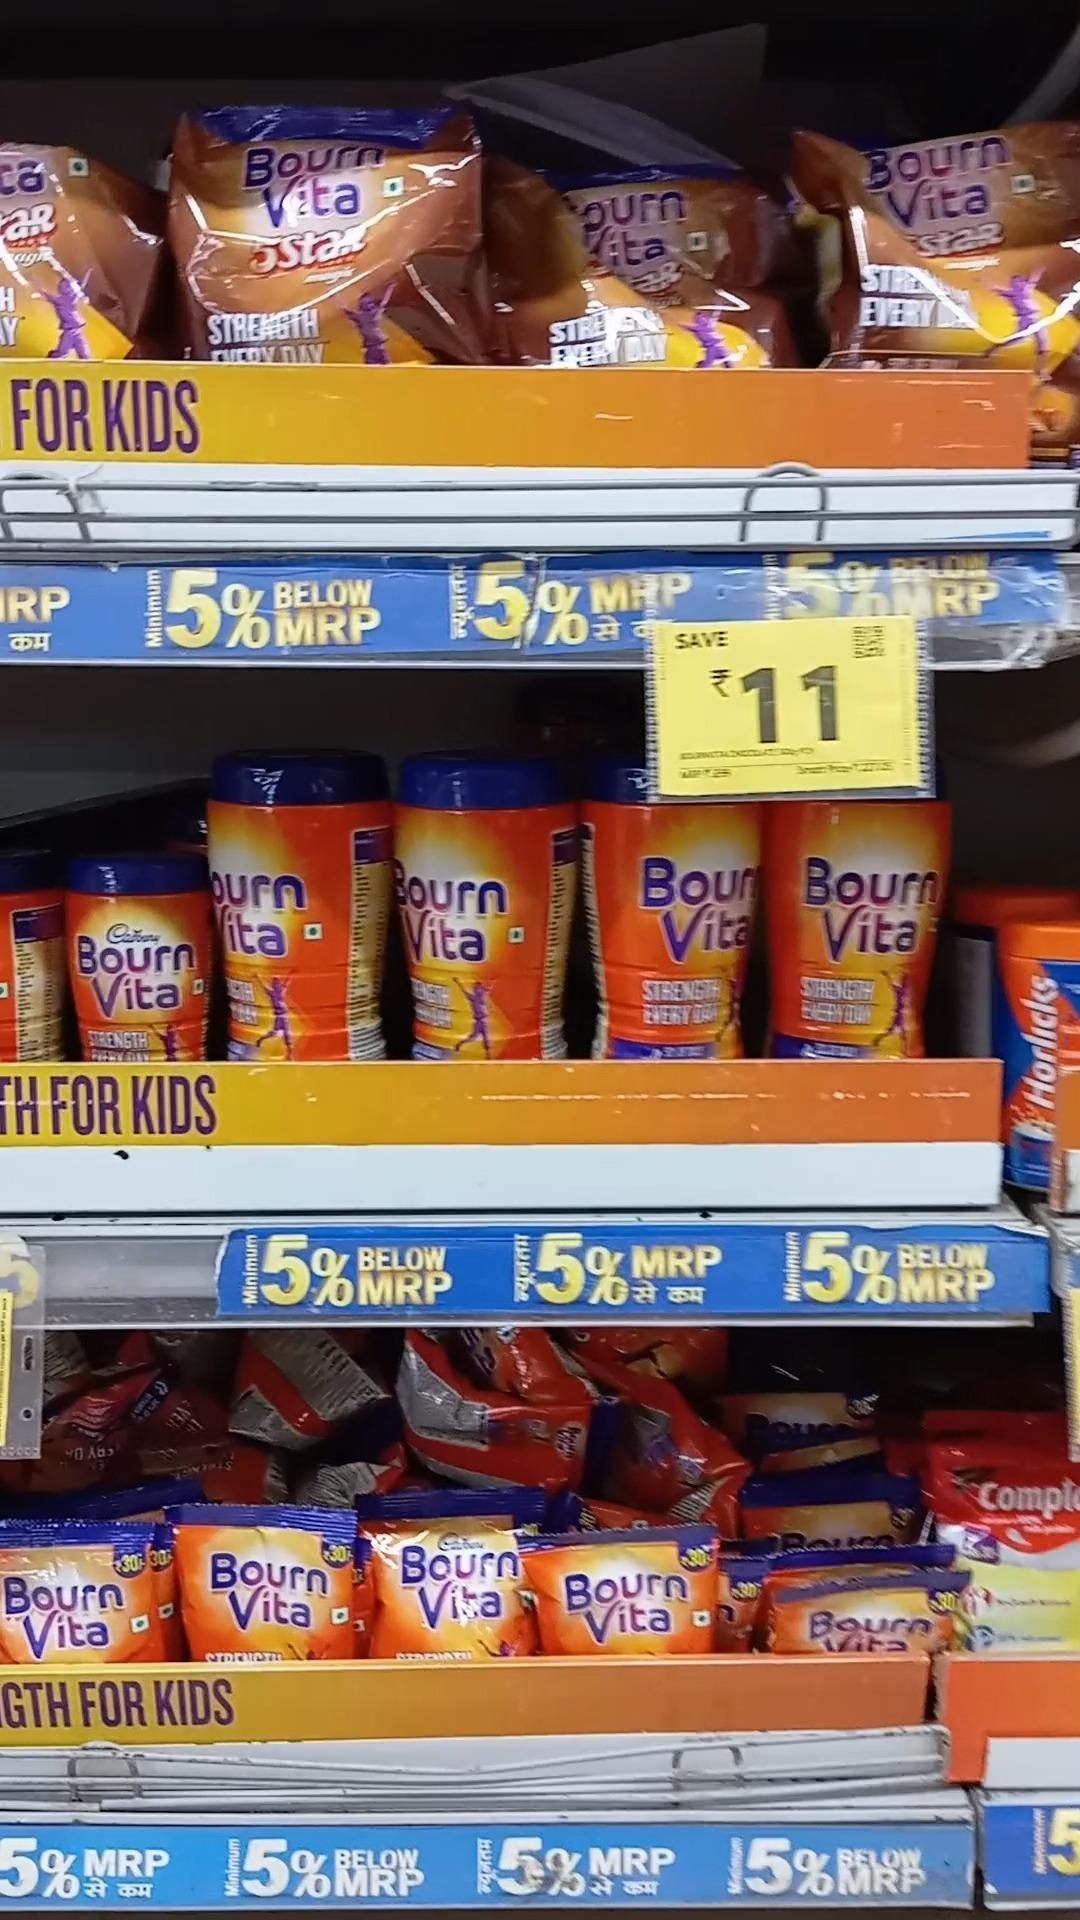BOURN_VITA_200_G_JAR: (73, 857, 211, 1067)
BOURN_VITA_500_G_JAR: (781, 789, 949, 1077), (389, 758, 542, 1056), (601, 793, 762, 1059), (220, 749, 351, 1059)
BOURN_VITA_75_G_POUCH: (174, 1511, 356, 1665), (372, 1497, 530, 1669), (0, 1522, 153, 1672)
BOURN_VITA_FIVE_STAR_MAGIC_500_G_POUCH: (175, 108, 493, 367), (831, 133, 1080, 375), (521, 165, 783, 373)
